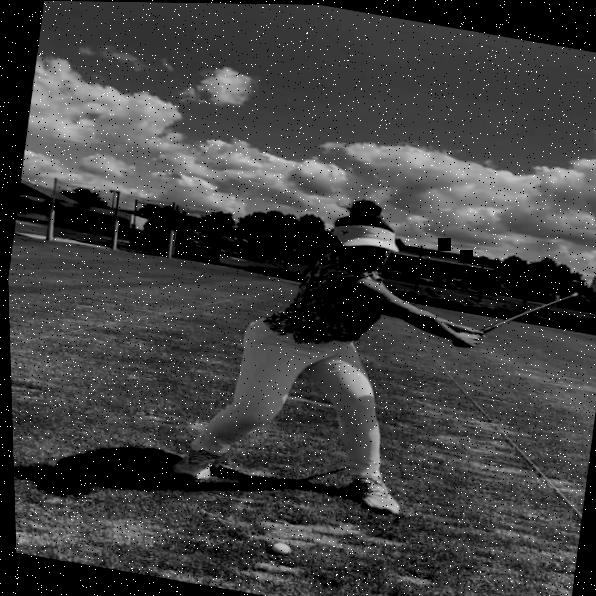ClubHead: (566, 277, 582, 293)
GolfBall: (265, 539, 289, 556)
